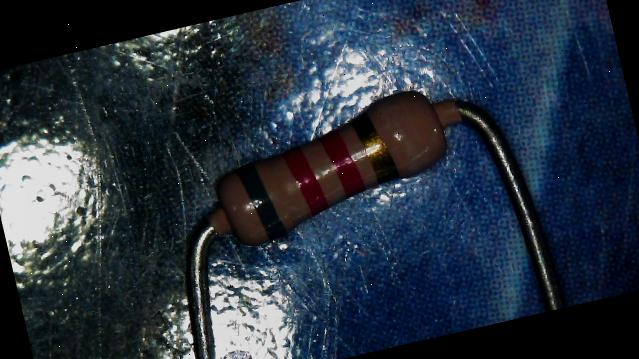gold: (350, 110, 398, 186)
grey: (235, 158, 288, 246)
red: (284, 144, 327, 218), (321, 128, 363, 200)
resistor: (184, 59, 479, 288)
